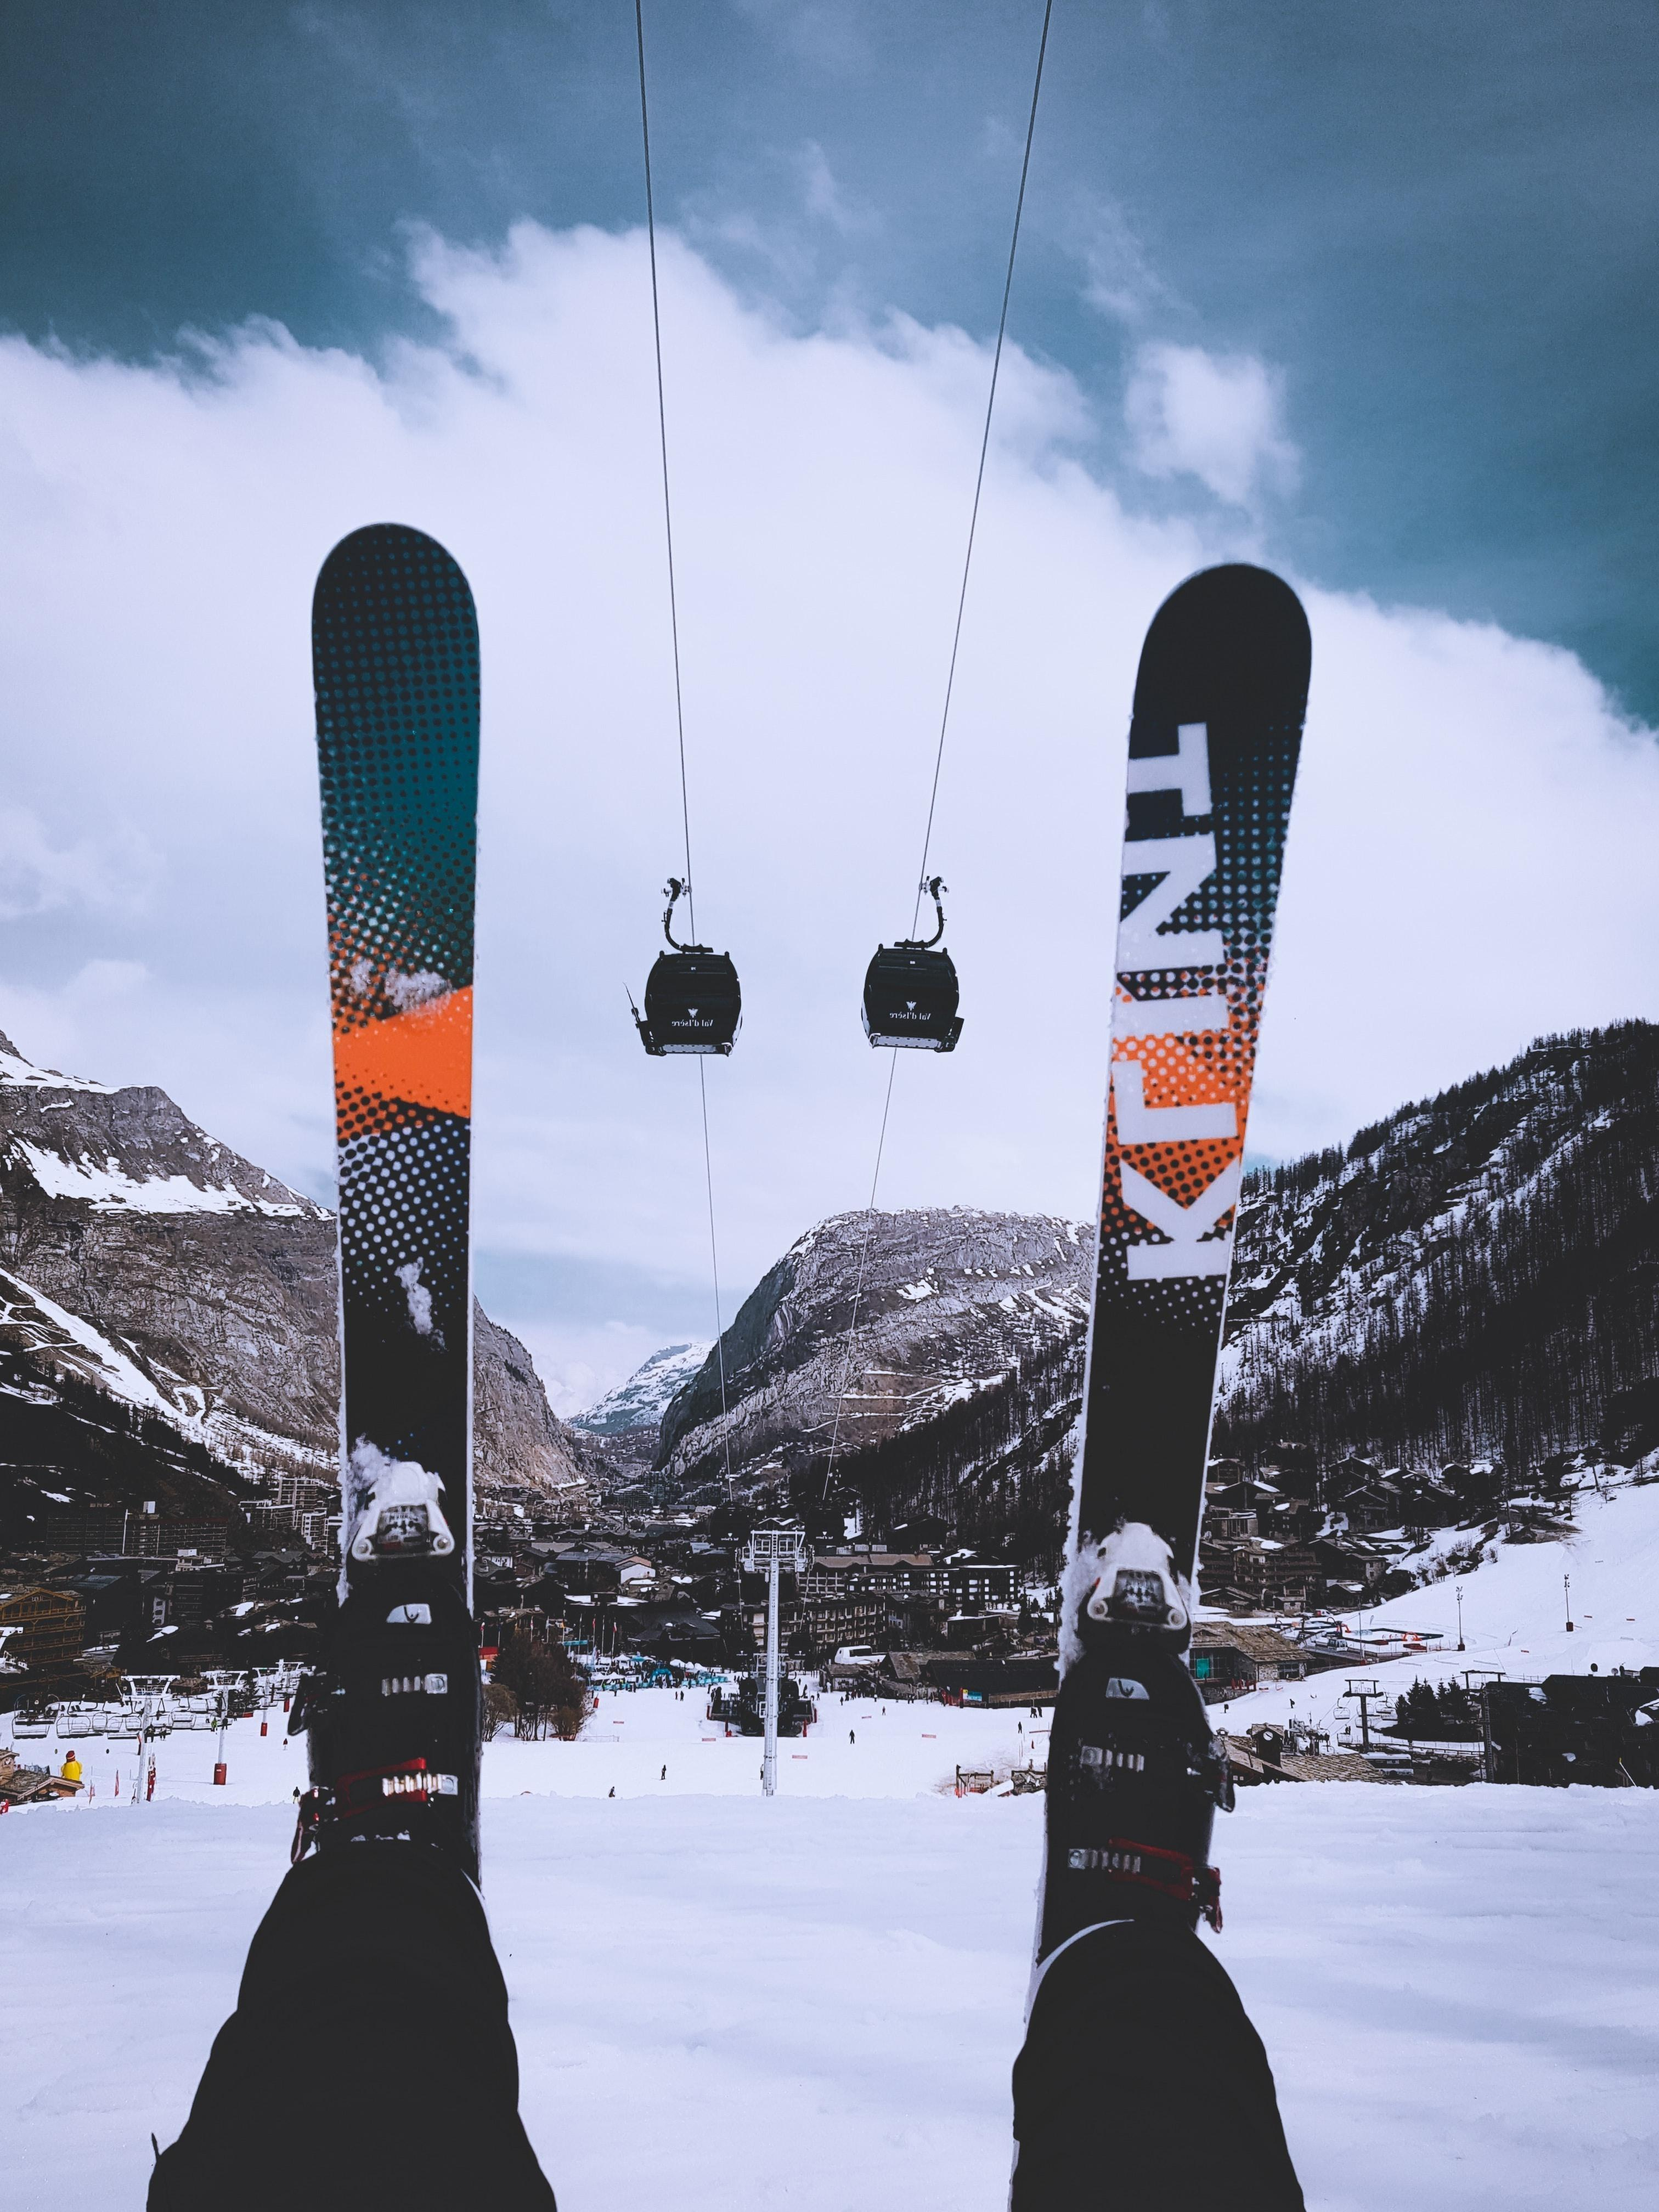Skis: (239, 439, 1417, 1803)
